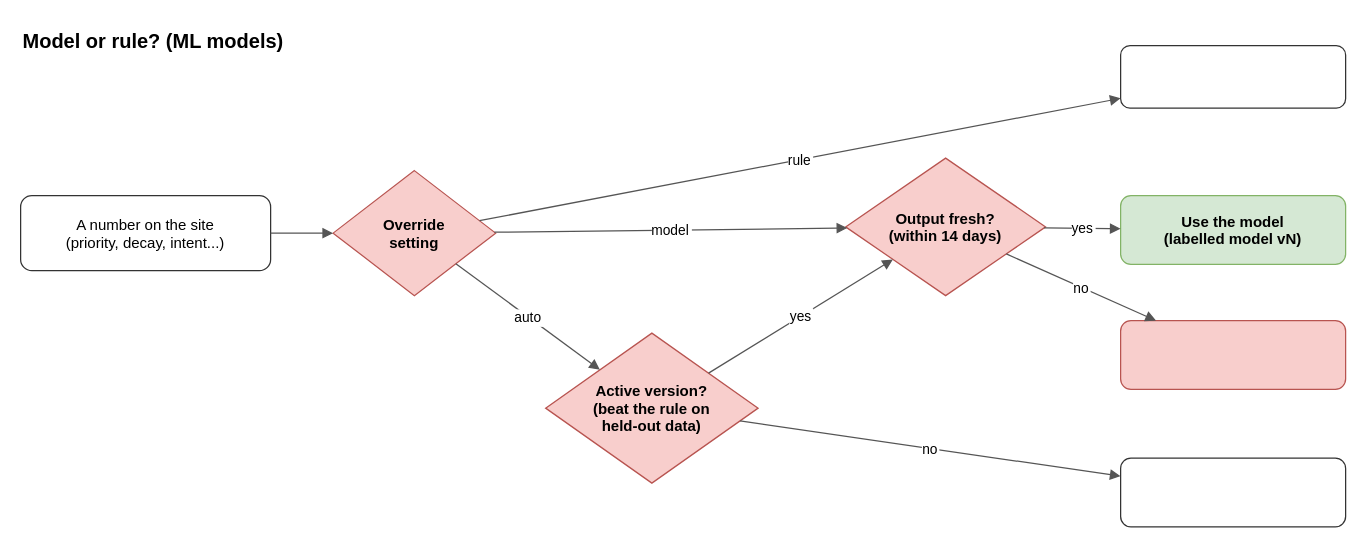
This 1366x548 diagram has some shape labels left out. The centre of each missing label's shape, as x and y in pixels:
"Rule (no better model yet)" goes at pixel 1232 492.
"Rule (stale model output)" goes at pixel 1232 354.
"Use the rule" goes at pixel 1232 76.
